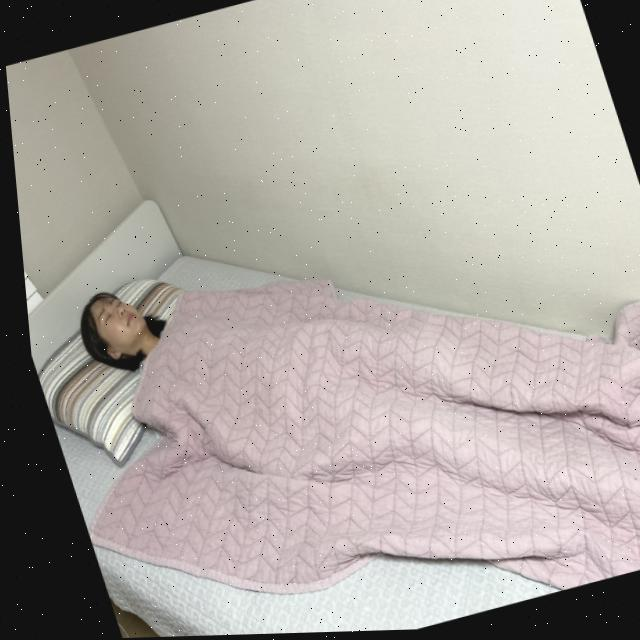sleeping-person: (42, 129, 640, 639)
